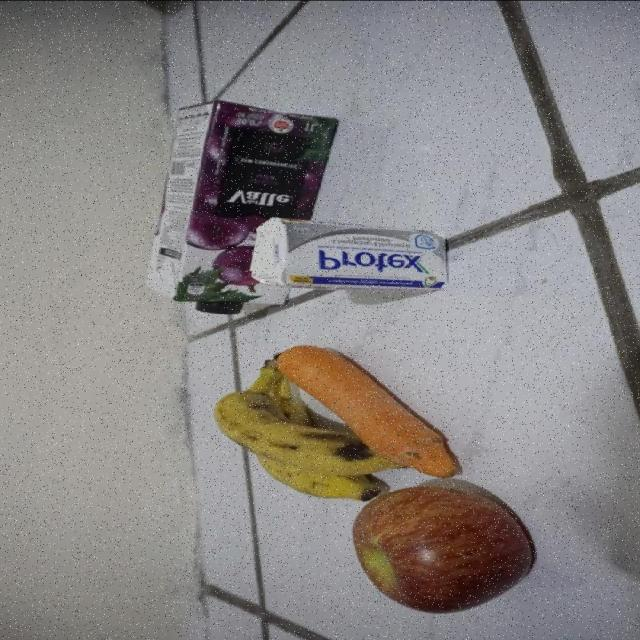Apple: (352, 484, 535, 616)
Banana: (212, 352, 413, 501)
Carrot: (276, 343, 460, 480)
Soap: (254, 216, 451, 294)
